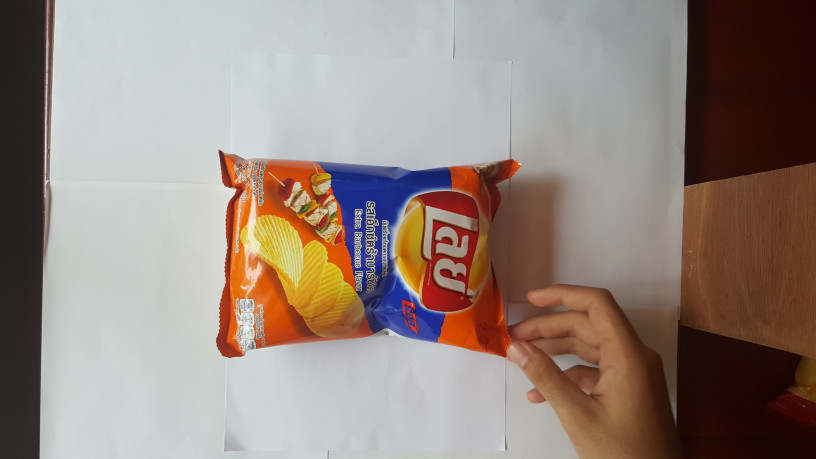lays-bbq: (204, 147, 531, 368)
